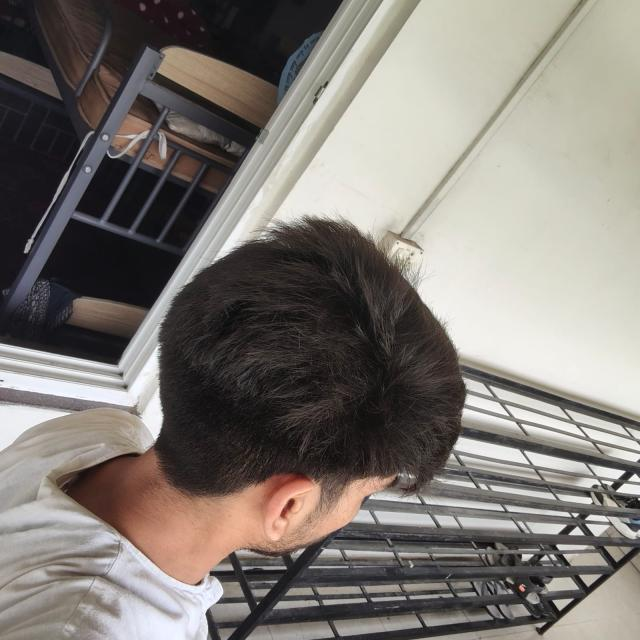no-hairnet: (0, 218, 466, 640)
